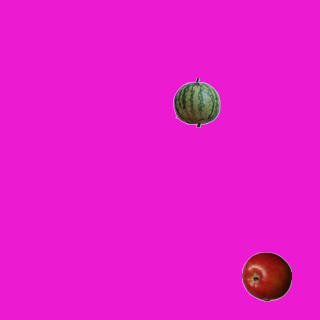Apple Braeburn: (241, 251, 291, 301)
Watermelon: (171, 77, 221, 127)
